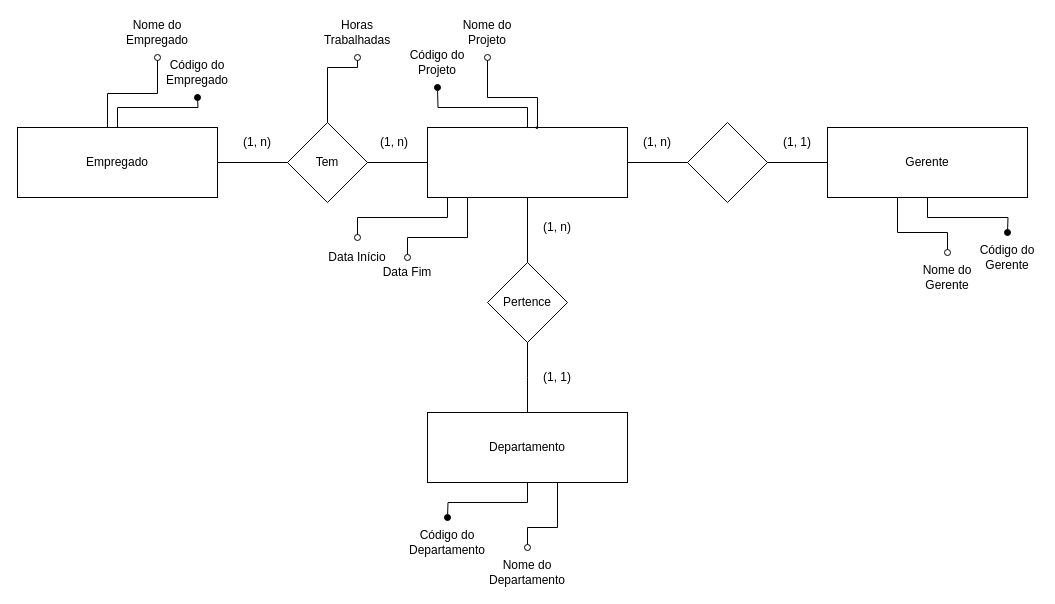
The diagram is 1055 pixels wide and 604 high, and some of its shapes have lost their labels. The centre of each missing label's shape, as x and y in pixels:
"Gerenciado" belongs at (x=727, y=162).
"Projeto" belongs at (x=527, y=162).
